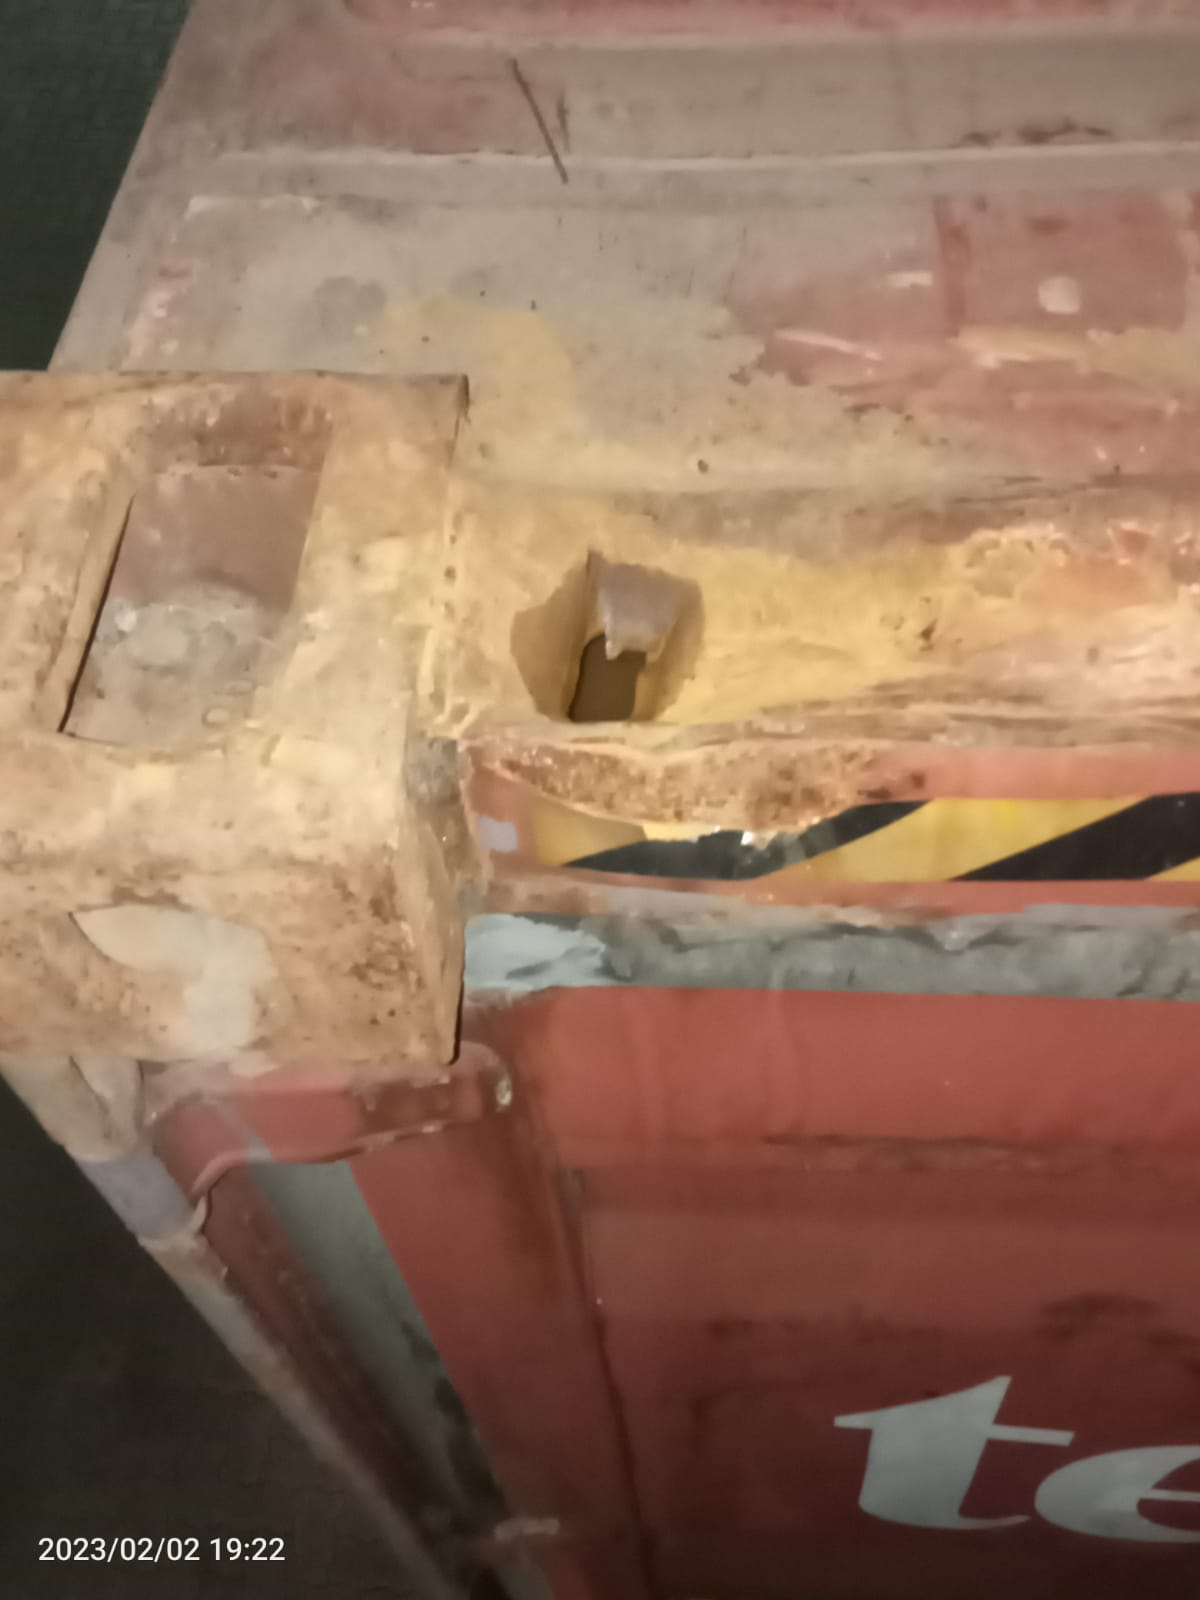rear_side: (21, 879, 1200, 1600)
top_side: (1, 1, 1163, 961)
